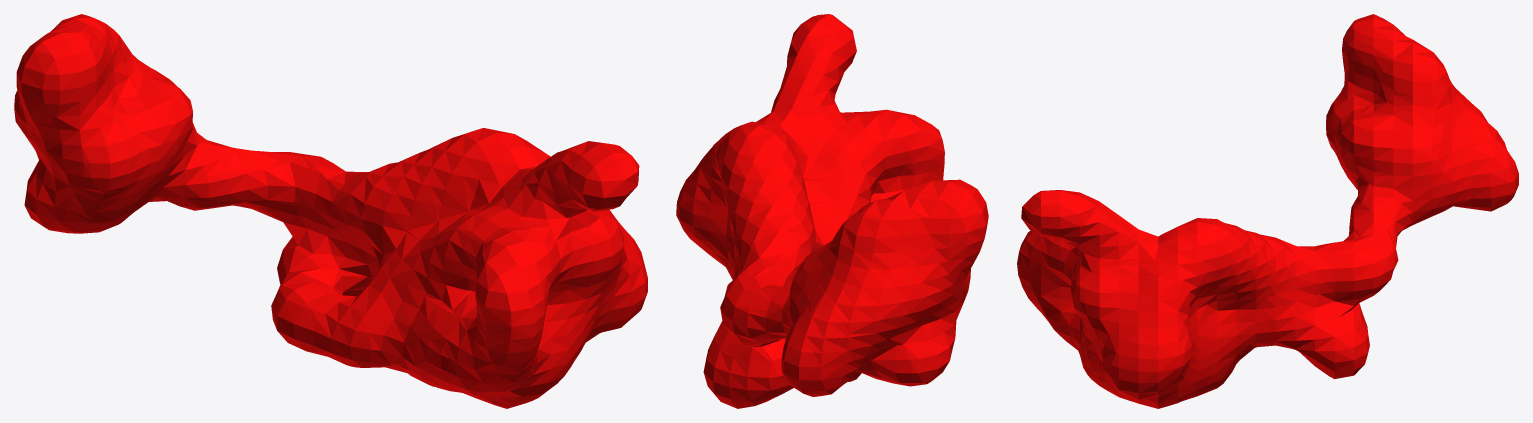
The model's file is nusG_coarse.dae.
3 renders of one model, left to right at view 1: azimuth 30°, elevation 25°; view 2: azimuth 150°, elevation 25°; view 3: azimuth 270°, elevation 25°, orthographic. The views are drawn at different scales.
Parts seen in each view (by area): view 1: nusG; view 2: nusG; view 3: nusG.
Part boxes in pixels (x1,y1,x2,y2): nusG: (14,14,647,408); nusG: (676,14,988,408); nusG: (1017,14,1518,408).
Size of the model in its own units: 65.9 by 44 by 75.31.
